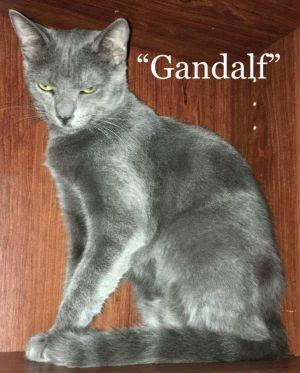rblue: (3, 3, 143, 150)
